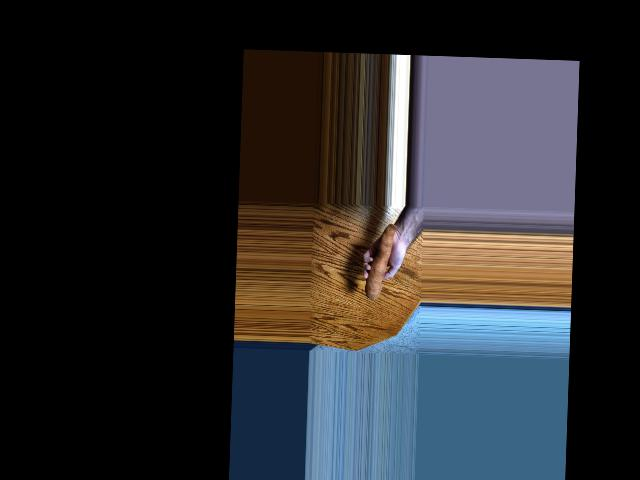sweet_potato: (363, 226, 393, 302)
